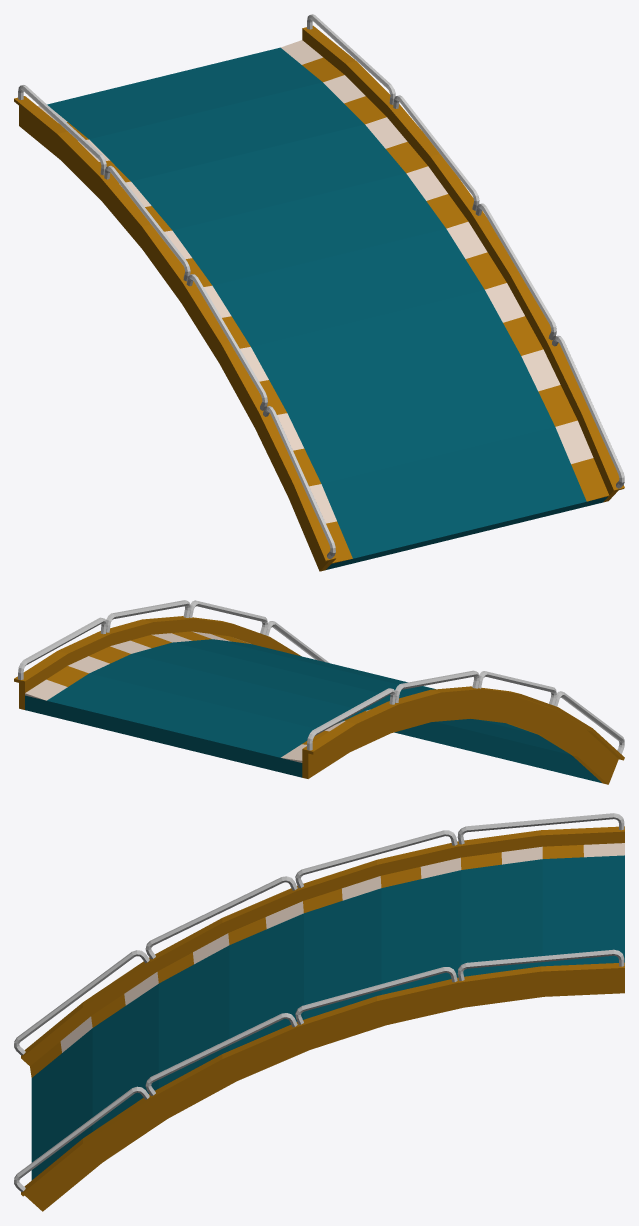
Rendered from descent-45_m.FBX.
The picture shows the model from 3 angles, top to bottom: view 1: azimuth 30°, elevation 25°; view 2: azimuth 150°, elevation 25°; view 3: azimuth 270°, elevation 25°; orthographic projection. The views are drawn at different scales.
Visible parts, largest first — view 1: descent-45_m, wall_r, wall_l, curbs_l, curbs_r; view 2: descent-45_m, wall_r, wall_l, curbs_l, curbs_r; view 3: descent-45_m, wall_l, wall_r, curbs_r.
Part boxes in pixels (x1=…): descent-45_m: x1=47, y1=47, x2=607, y2=569; wall_r: x1=14, y1=85, x2=336, y2=571; wall_l: x1=302, y1=14, x2=624, y2=502; curbs_l: x1=281, y1=40, x2=609, y2=501; curbs_r: x1=38, y1=105, x2=352, y2=563; descent-45_m: x1=25, y1=639, x2=601, y2=782; wall_r: x1=302, y1=670, x2=624, y2=784; wall_l: x1=14, y1=600, x2=329, y2=709; curbs_l: x1=25, y1=631, x2=250, y2=700; curbs_r: x1=281, y1=709, x2=370, y2=762; descent-45_m: x1=31, y1=855, x2=624, y2=1180; wall_l: x1=14, y1=949, x2=624, y2=1211; wall_r: x1=14, y1=813, x2=624, y2=1065; curbs_r: x1=30, y1=843, x2=624, y2=1077.
Size of what is drawn, in the model's own units: 207 by 178 by 378.
